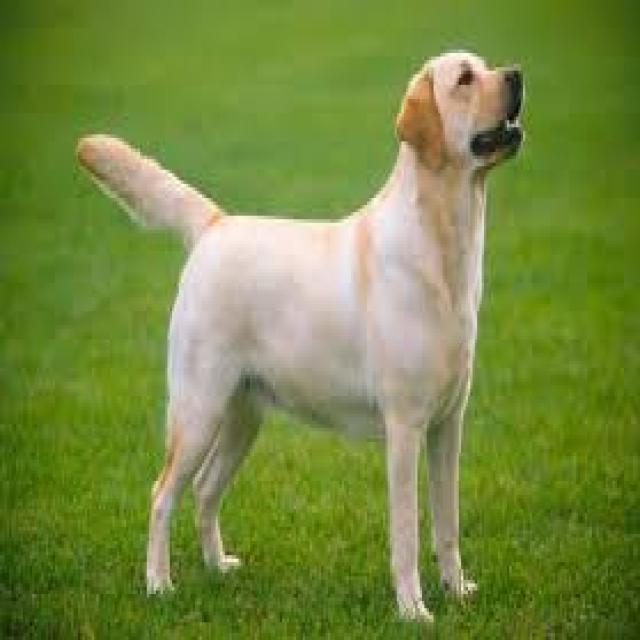dog: (78, 53, 526, 626)
